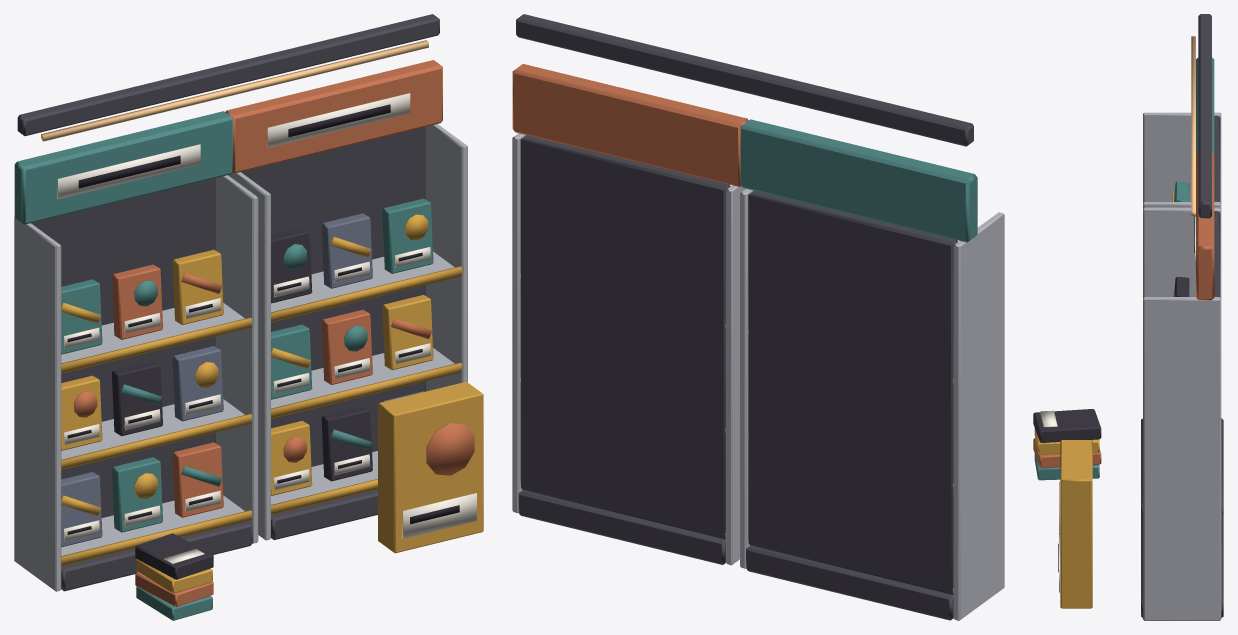
The model's file is retail_shelf_l3.glb.
3 views of the same model, side by side, from view 1: azimuth 30°, elevation 25°; view 2: azimuth 150°, elevation 25°; view 3: azimuth 270°, elevation 25° (orthographic). The views are drawn at different scales.
Parts seen in each view (by area): view 1: retail_shelf_l3, retail_shelf_header_glow; view 2: retail_shelf_l3; view 3: retail_shelf_l3, retail_shelf_header_glow.
Boxes of the visible parts, x1=… form: retail_shelf_l3: x1=14, y1=14, x2=483, y2=620; retail_shelf_header_glow: x1=41, y1=40, x2=428, y2=141; retail_shelf_l3: x1=512, y1=14, x2=1004, y2=620; retail_shelf_l3: x1=1033, y1=14, x2=1223, y2=620; retail_shelf_header_glow: x1=1191, y1=36, x2=1195, y2=216.
Bounding box in the file's own units: 1.97 × 2.02 × 0.8275.
